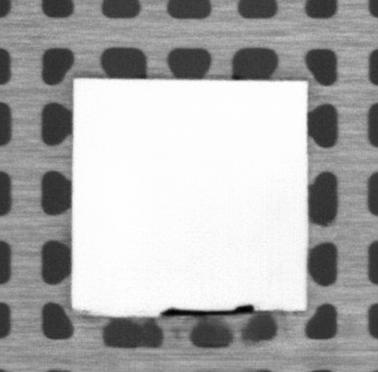DIE_BROKEN: (159, 304, 255, 317)
